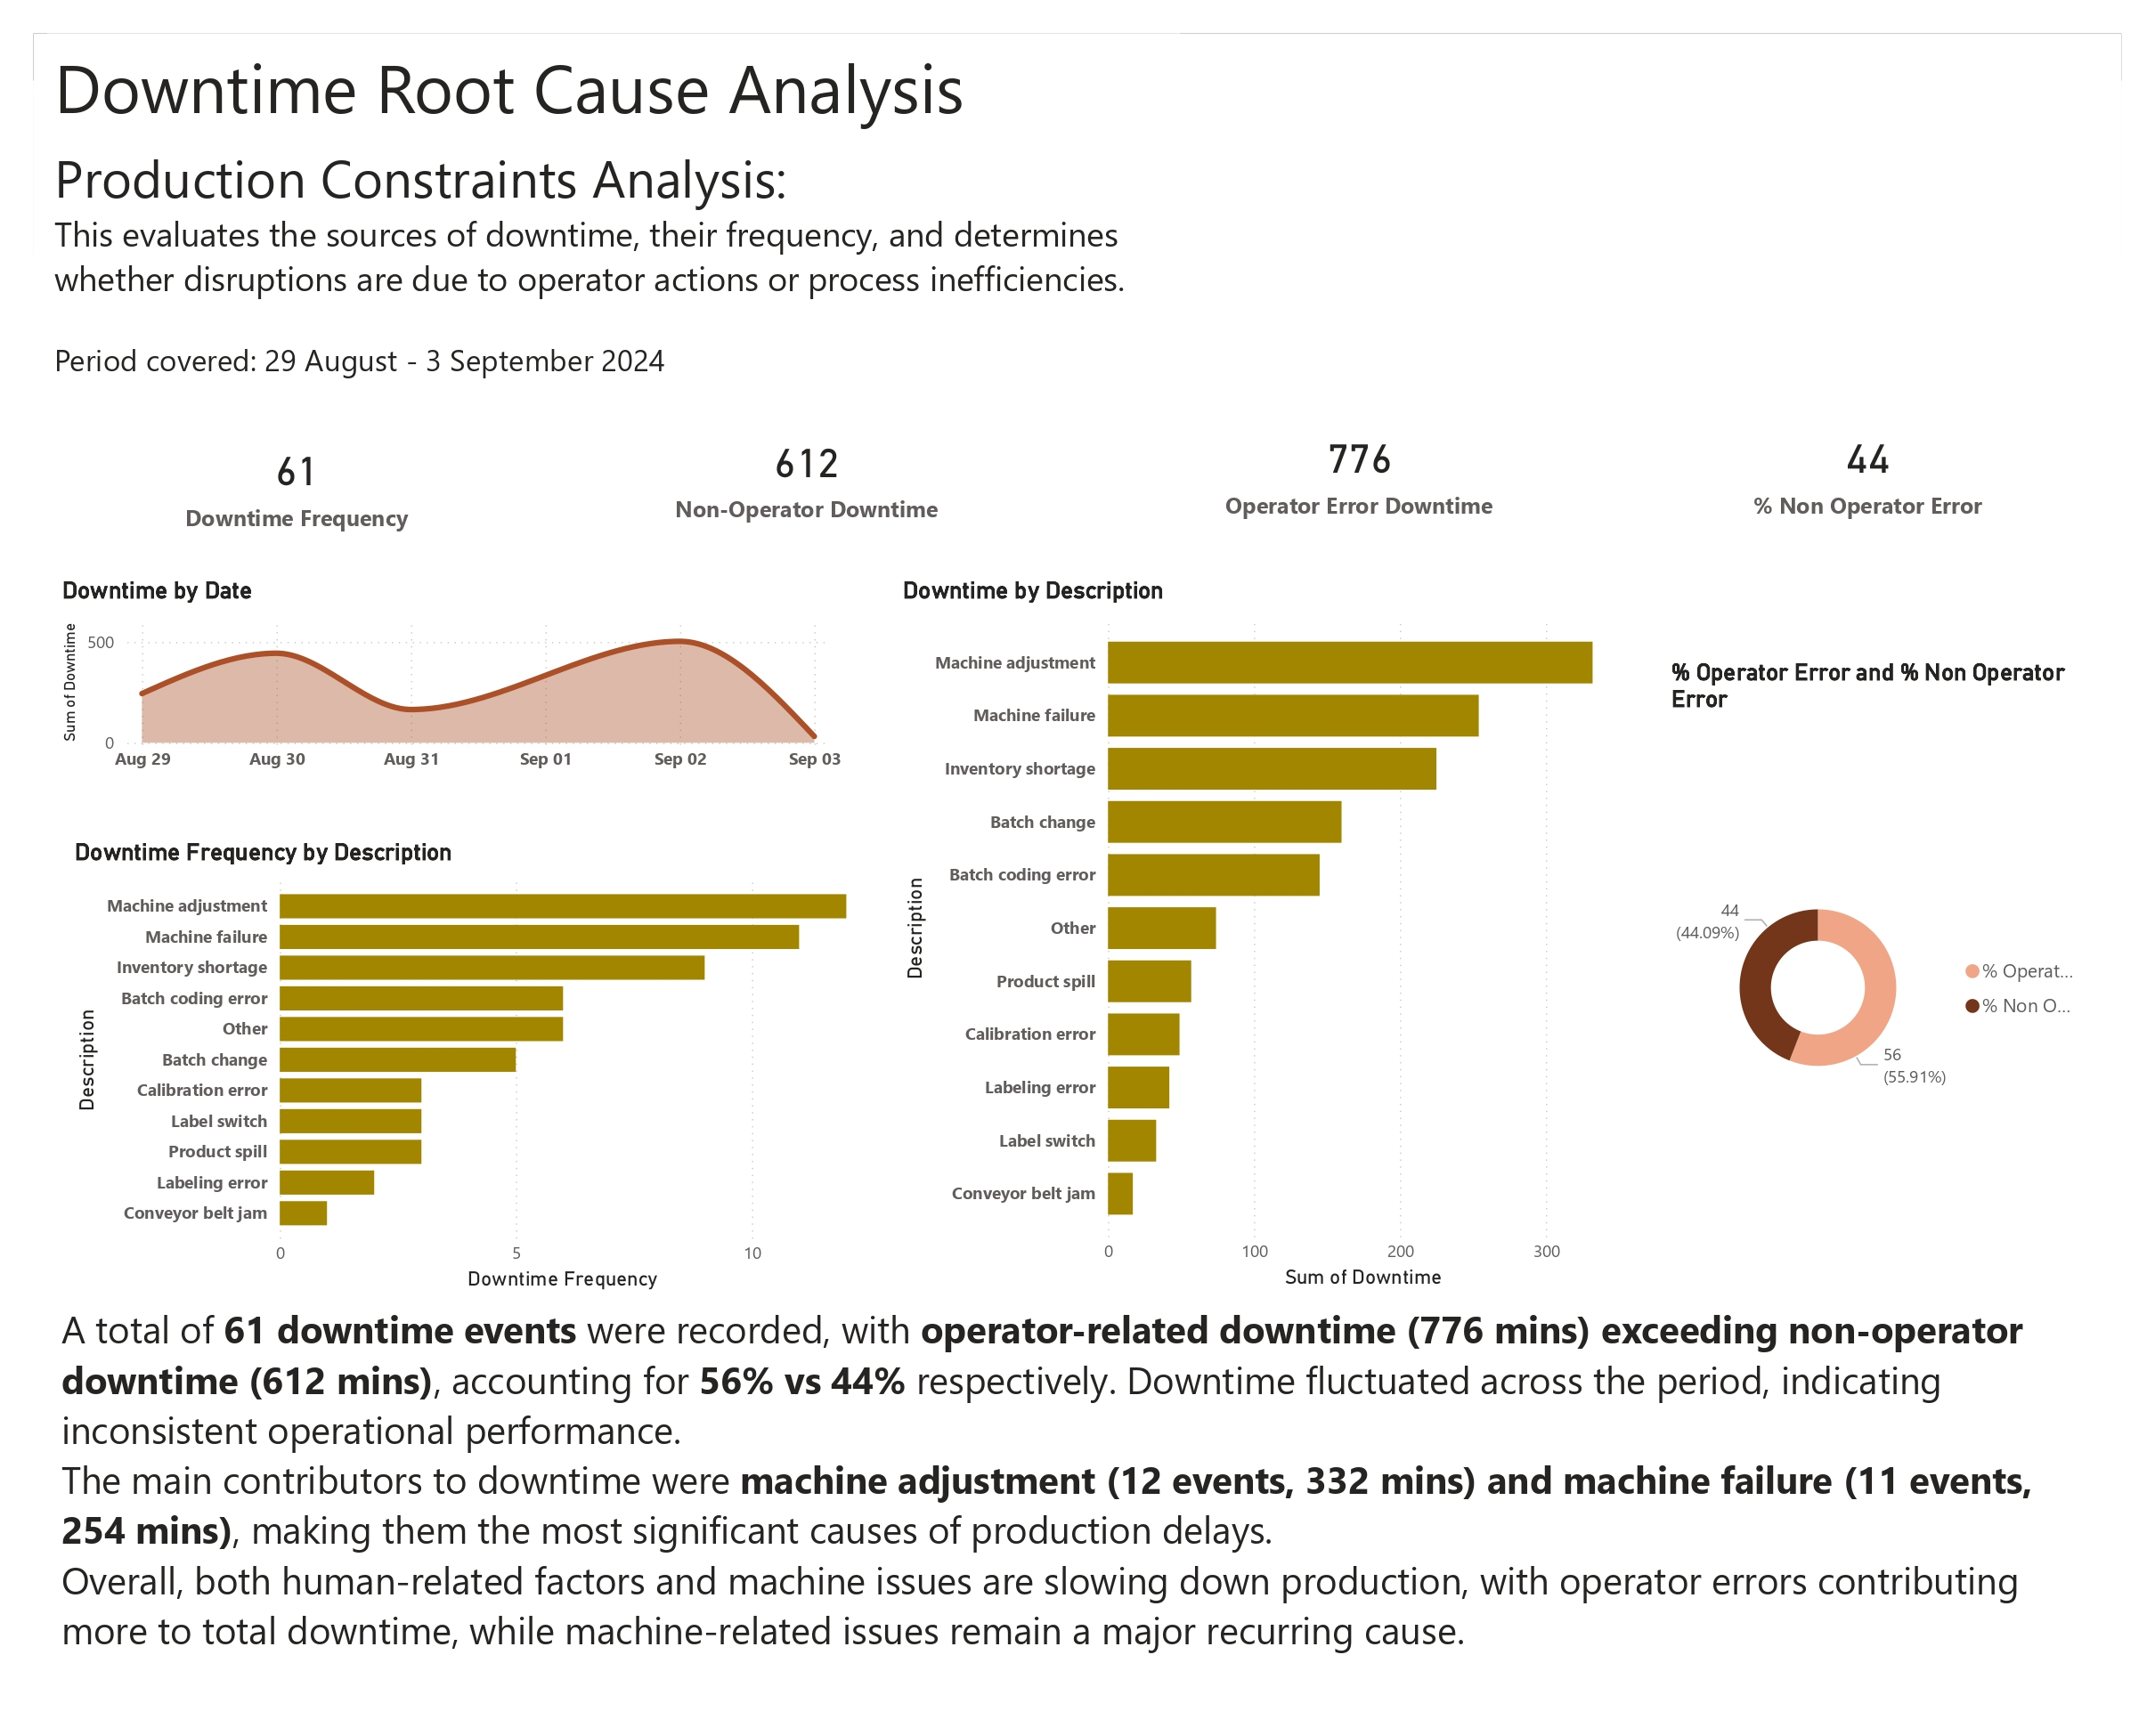

Layout of this report page (visuals, bound fields, positions):
{"tool":"powerbi","page":{"name":"What is Slowing Down Production","canvas":[1500,1200],"ordinal":1},"visuals":[{"type":"textbox","box":[10.2,0,813.7,144.9],"z":0},{"type":"textbox","box":[9.8,73.2,814.6,114.6],"z":1000},{"type":"textbox","box":[9.8,187.8,814.6,75.6],"z":2000},{"type":"card","fields":{"Values":["Downtime factors.Downtime Frequency"]},"box":[15.2,256.2,347.6,134.5],"z":3000},{"type":"card","fields":{"Values":["Downtime factors.Non-Operator Downtime"]},"box":[362.8,243.6,385.6,147.1],"z":4000},{"type":"card","fields":{"Values":["Downtime factors.Operator Error Downtime"]},"box":[751,238.5,403.4,152.2],"z":5000},{"type":"card","fields":{"Values":["Downtime factors.Operator Error %"]},"box":[1154.3,238.5,327.3,152.2],"z":6000},{"type":"clusteredBarChart","fields":{"Y":["Downtime factors.Downtime Frequency"],"Category":["Downtime factors.Description"]},"box":[25.4,578.4,570.8,329.8],"z":7000},{"type":"clusteredBarChart","title":"Downtime by Description","fields":{"Category":["Downtime factors.Description"],"Y":["Sum(Line downtime.Downtime)"]},"box":[619.5,390.2,534.1,517.1],"z":8000},{"type":"areaChart","title":"Downtime by Date","fields":{"Category":["Line productivity.Date.Variation.Date Hierarchy.Year","Line productivity.Date.Variation.Date Hierarchy.Quarter","Line productivity.Date.Variation.Date Hierarchy.Month","Line productivity.Date.Variation.Date Hierarchy.Day"],"Y":["Sum(Line downtime.Downtime)"]},"box":[16.5,389.6,568.9,150],"z":9000},{"type":"donutChart","fields":{"Y":["Downtime factors.% Operator Error1","Downtime factors.% Operator Error"]},"box":[1172.1,449,309.5,436.4],"z":10000},{"type":"textbox","box":[15.2,908.2,1466.4,291.8],"z":11000}]}

Visuals, with their boxes on the page's 1500x1200 design canvas (x1, y1, x2, y2). These are canvas units, not pixel positions in the 2155x1736 screenshot, which may show the page scaled, cropped or inside an application window:
textbox: (10, 0, 824, 145)
textbox: (10, 73, 824, 188)
textbox: (10, 188, 824, 263)
card - Downtime factors.Downtime Frequency: (15, 256, 363, 391)
card - Downtime factors.Non-Operator Downtime: (363, 244, 748, 391)
card - Downtime factors.Operator Error Downtime: (751, 238, 1154, 391)
card - Downtime factors.Operator Error %: (1154, 238, 1482, 391)
clusteredBarChart - Downtime factors.Downtime Frequency x Downtime factors.Description: (25, 578, 596, 908)
"Downtime by Description" clusteredBarChart: (620, 390, 1154, 907)
"Downtime by Date" areaChart: (16, 390, 585, 540)
donutChart - Downtime factors.% Operator Error1 x Downtime factors.% Operator Error: (1172, 449, 1482, 885)
textbox: (15, 908, 1482, 1200)
